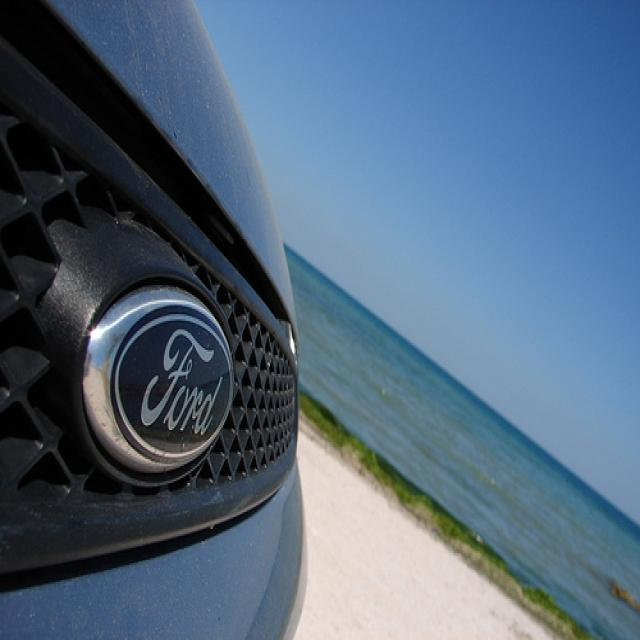ford: (83, 281, 240, 479)
